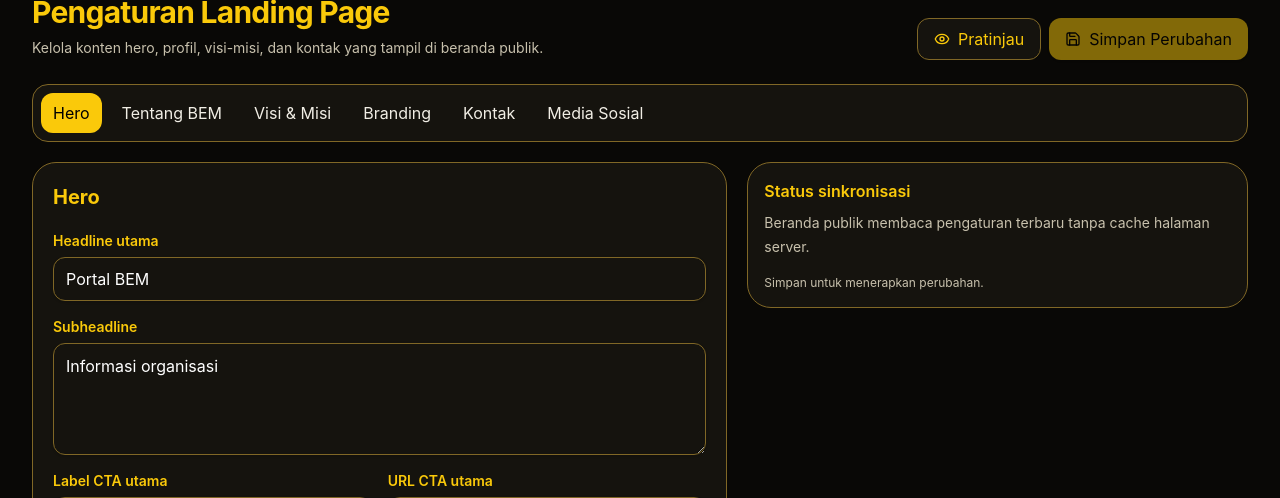
Test case: system management screens › saves the nullable cabinet identity through the Branding settings section
This screenshot has width=1280, height=498.
expect the field showing "Portal BEM" is shown: met, box top-left (53, 257), bottom-right (706, 301)
Click the button "Branding".
click(397, 113)  # box top-left (351, 93), bottom-right (443, 133)
(page scrolled)
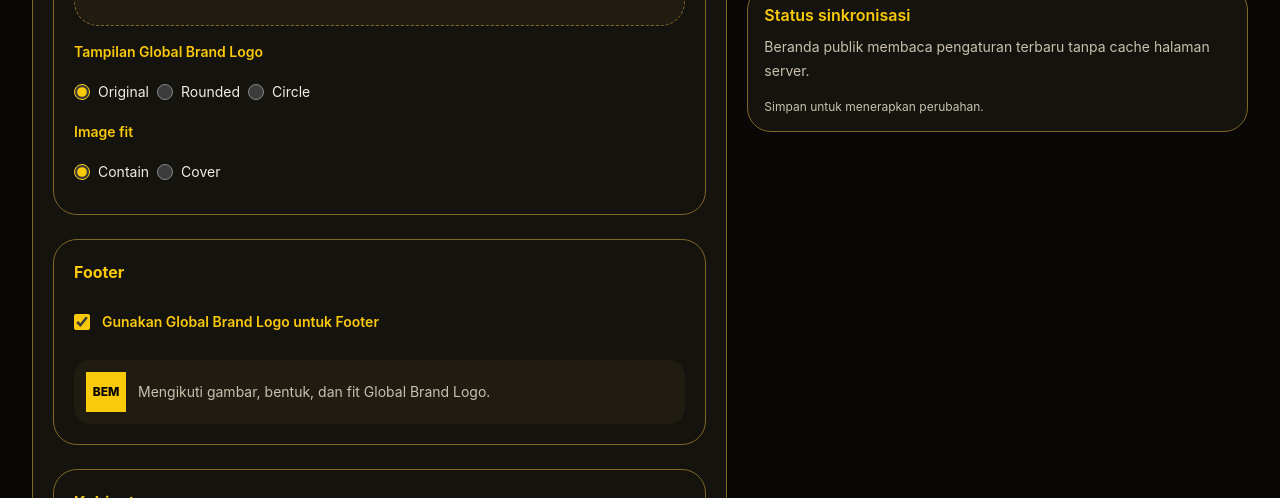
expect the checkbox labelled "Gunakan Global Brand Logo untuk Footer" is checked: met
Click the checkbox labelled "Gunakan Global Brand Logo untuk Footer".
click(82, 322)  # box top-left (74, 314), bottom-right (90, 330)
(page scrolled)
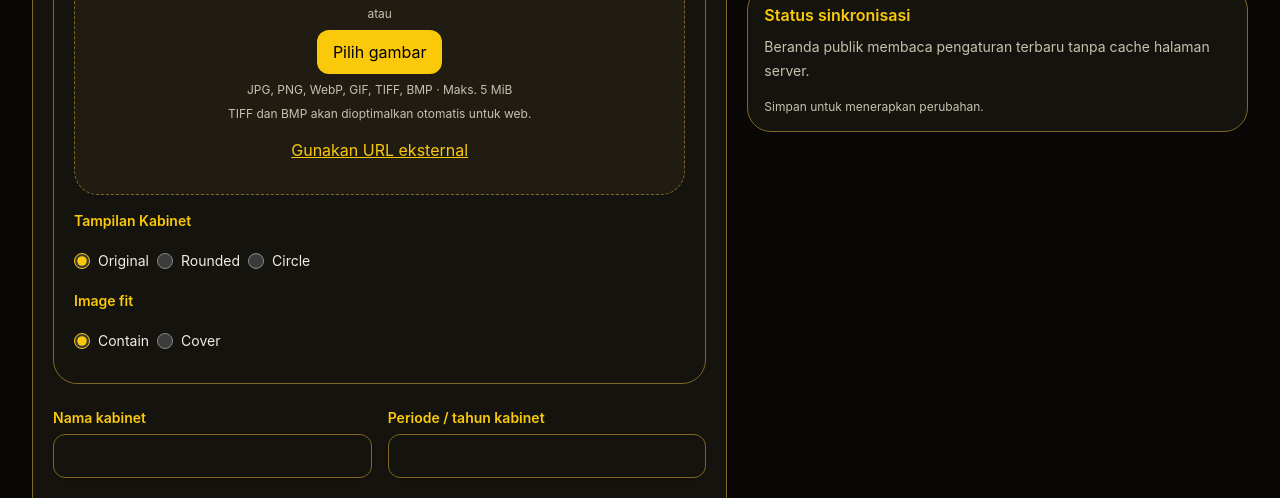
Type "Kabinet Uji" into the field labelled "Nama kabinet".
click(212, 456); type("Kabinet Uji")  # box top-left (53, 434), bottom-right (372, 478)
(page scrolled)
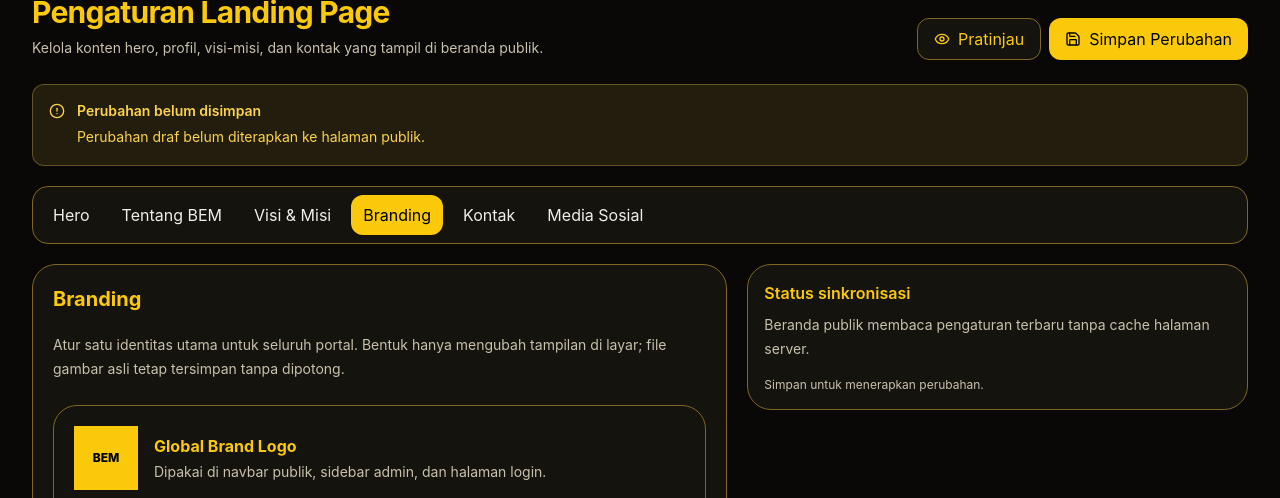
Click the button "Simpan Perubahan".
click(1149, 39)  # box top-left (1049, 18), bottom-right (1248, 60)
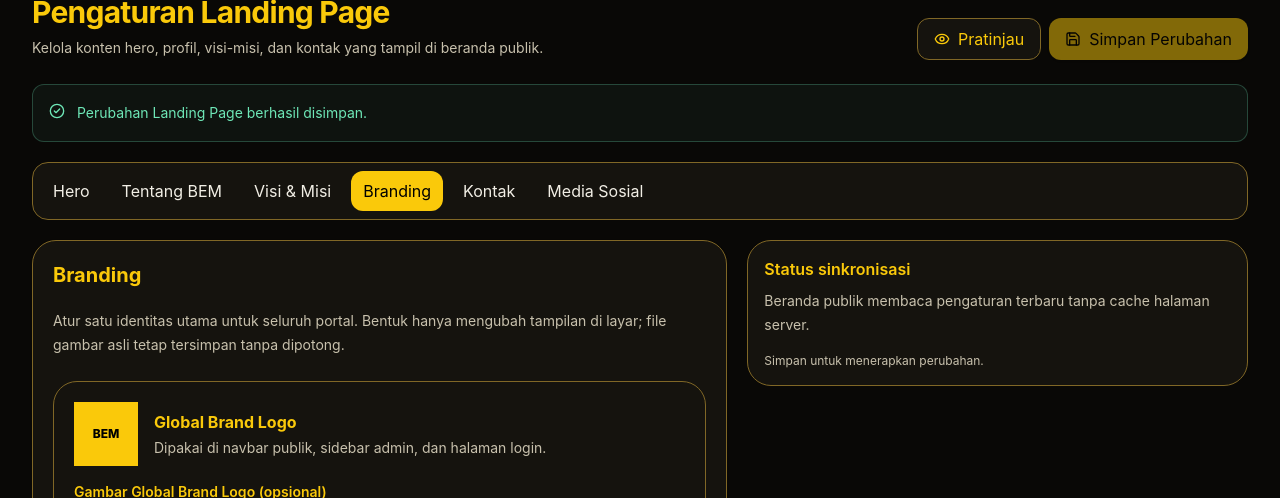
expect the text "Perubahan Landing Page berhasil disimpan." is shown: met, box top-left (77, 101), bottom-right (367, 125)
expect the text "Perubahan draf belum diterapkan ke halaman publik." is gone: met
